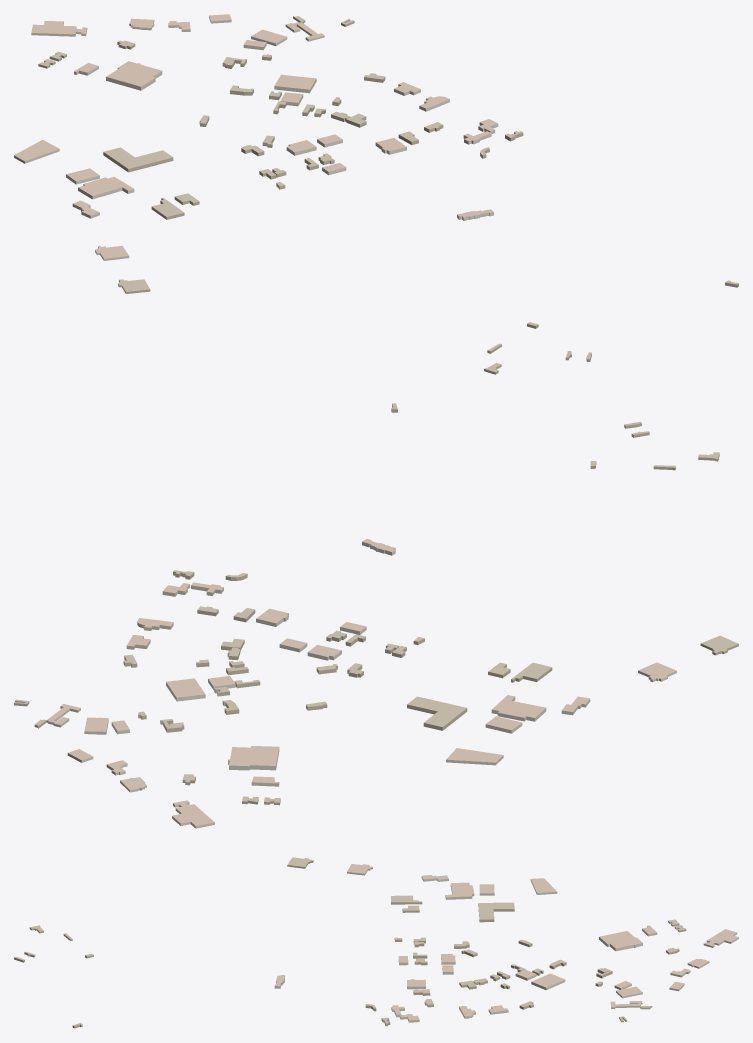
The picture shows the model from 3 angles, top to bottom: view 1: azimuth 30°, elevation 25°; view 2: azimuth 150°, elevation 25°; view 3: azimuth 270°, elevation 25°; orthographic projection. The views are drawn at different scales.
Bounding box in the file's own units: 1334 × 13.05 × 2401.
